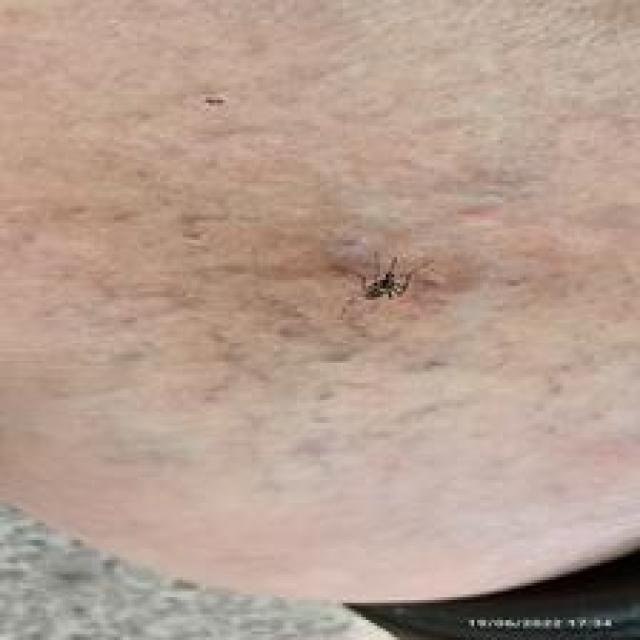Aedes albopictus: (354, 250, 429, 301)
